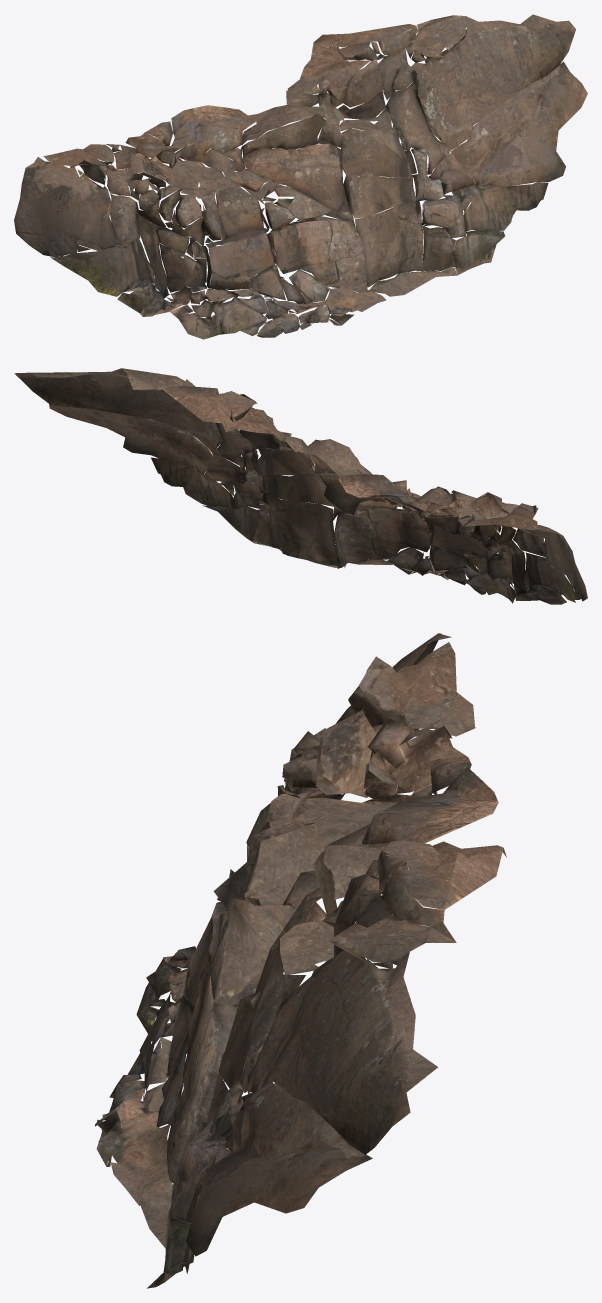
Rendered from cliff-b.glb.
3 renders of one model, top to bottom at view 1: azimuth 30°, elevation 25°; view 2: azimuth 150°, elevation 25°; view 3: azimuth 270°, elevation 25°, orthographic. The views are drawn at different scales.
Parts seen in each view (by area): view 1: drone_rock_02_LOD0; view 2: drone_rock_02_LOD0; view 3: drone_rock_02_LOD0.
Boxes of the visible parts, <box> form: drone_rock_02_LOD0: <box>14,14,587,339</box>; drone_rock_02_LOD0: <box>14,368,587,604</box>; drone_rock_02_LOD0: <box>95,633,506,1288</box>.
Size of the model in its own units: 20.26 by 7.17 by 6.52.
1 material, 1 textured.
